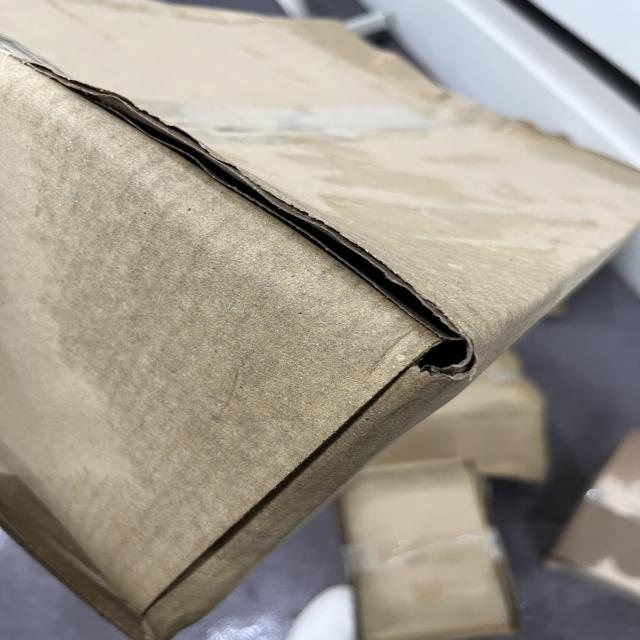wet: (46, 104, 533, 516)
